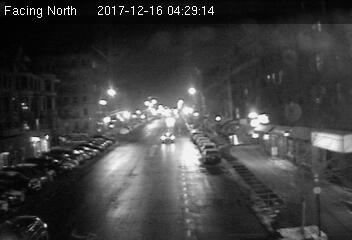car: (202, 149, 221, 164), (160, 130, 177, 144)
